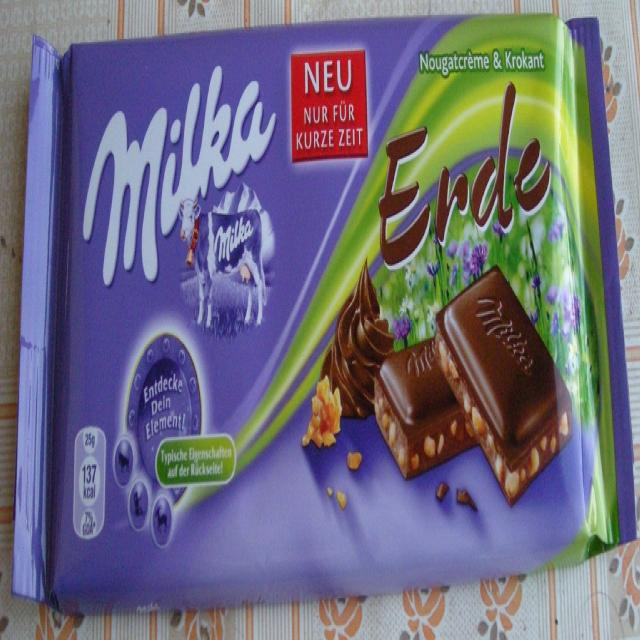milka: (79, 55, 287, 339)
